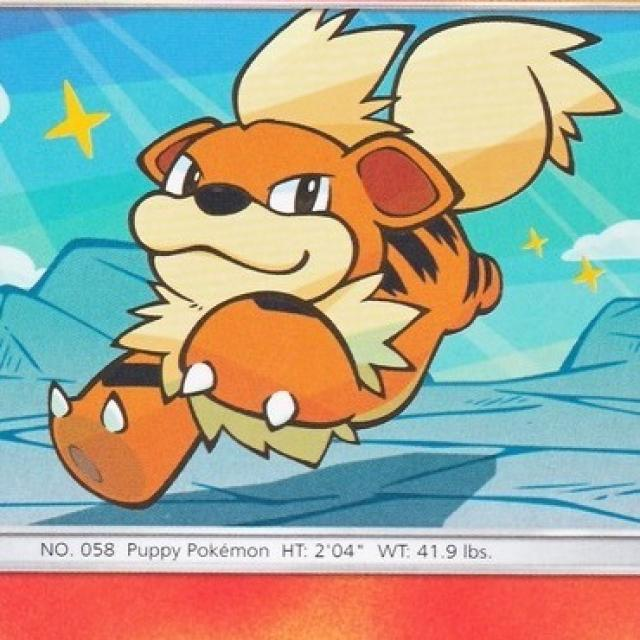Growlithe: (121, 24, 502, 426)
